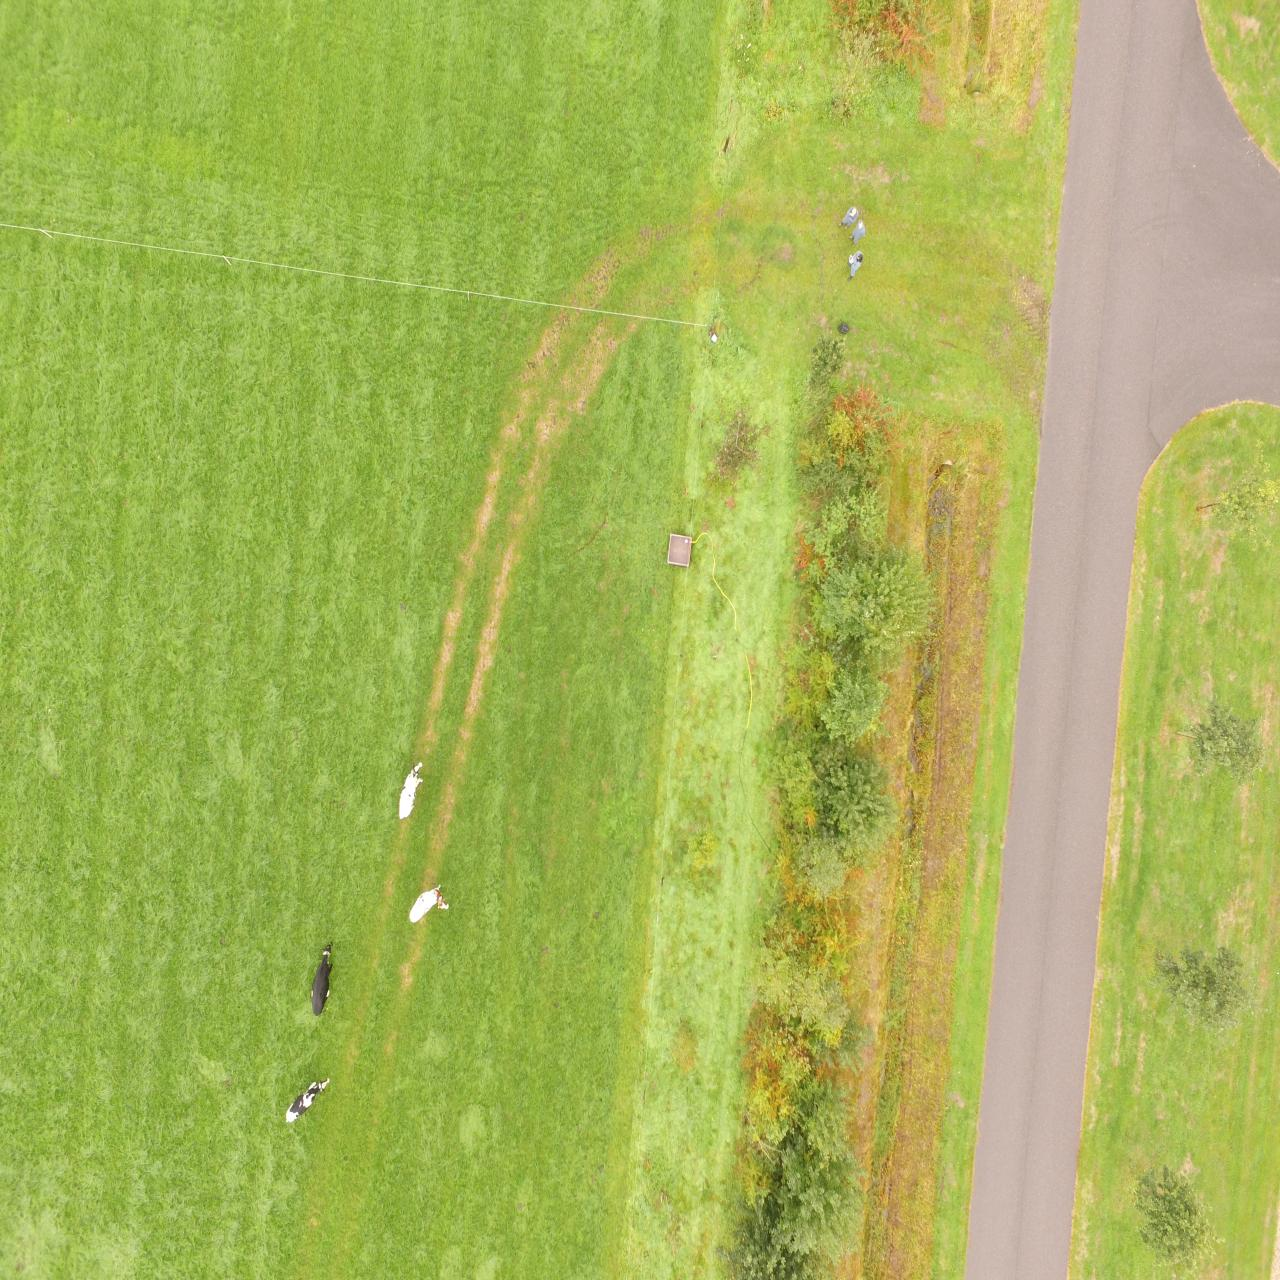cow: (281, 1074, 332, 1129), (306, 938, 336, 1020), (395, 757, 427, 824), (406, 881, 451, 927)
